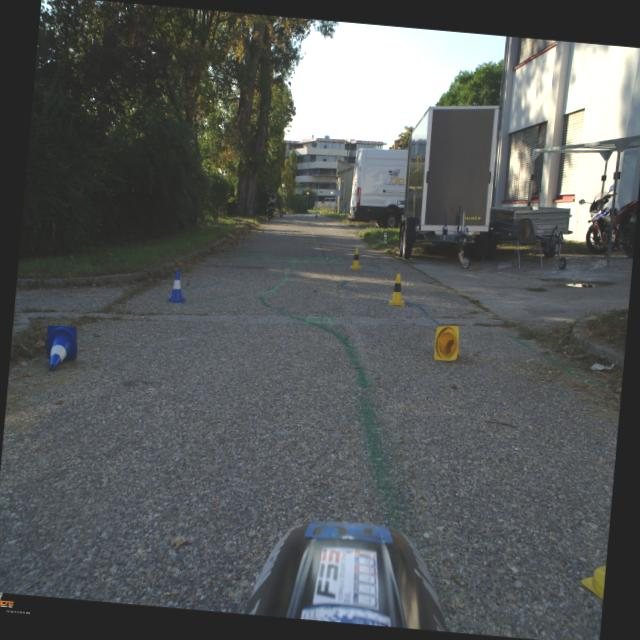blue_cone: (44, 324, 78, 373), (166, 270, 188, 304)
yellow_cone: (433, 324, 462, 362), (388, 272, 407, 306), (349, 247, 363, 270)
